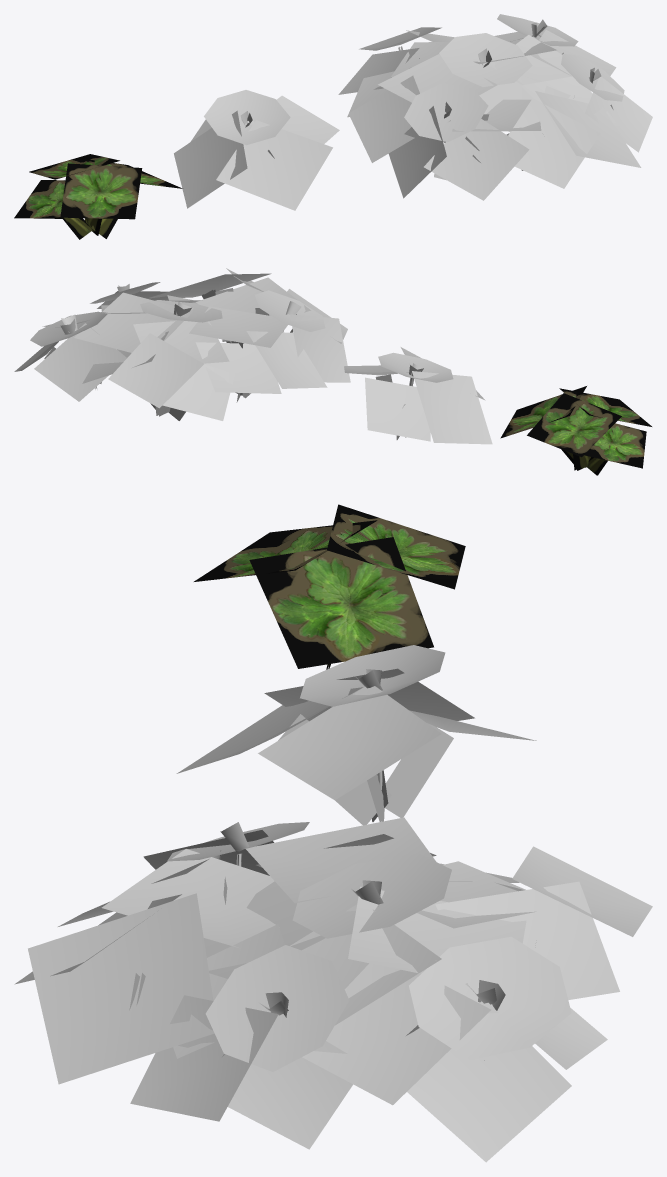
File: Geranium Rozanne_m.FBX
3 renders of one model, top to bottom at view 1: azimuth 30°, elevation 25°; view 2: azimuth 150°, elevation 25°; view 3: azimuth 270°, elevation 25°, orthographic. The views are drawn at different scales.
Visible parts, largest first — view 1: geranium rozanne, geranium rozanne009, geranium rozanne010; view 2: geranium rozanne, geranium rozanne009, geranium rozanne010; view 3: geranium rozanne, geranium rozanne009, geranium rozanne010.
Boxes of the visible parts, bbox=[...] form: geranium rozanne: bbox=[338, 14, 652, 200]; geranium rozanne009: bbox=[174, 90, 339, 210]; geranium rozanne010: bbox=[14, 154, 182, 239]; geranium rozanne: bbox=[14, 268, 350, 420]; geranium rozanne009: bbox=[344, 347, 492, 444]; geranium rozanne010: bbox=[500, 386, 651, 475]; geranium rozanne: bbox=[14, 817, 652, 1162]; geranium rozanne009: bbox=[176, 645, 536, 825]; geranium rozanne010: bbox=[194, 504, 465, 669].
Bounding box in the file's own units: 137 × 19.4 × 66.07.
